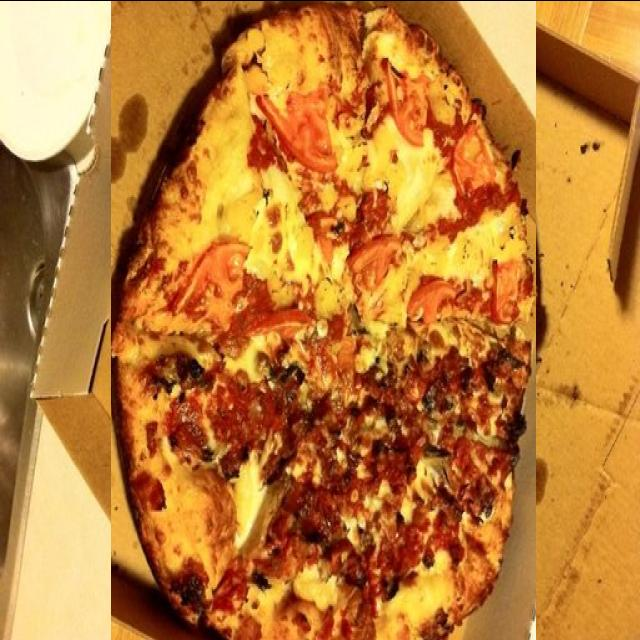pizza: (111, 0, 536, 640)
